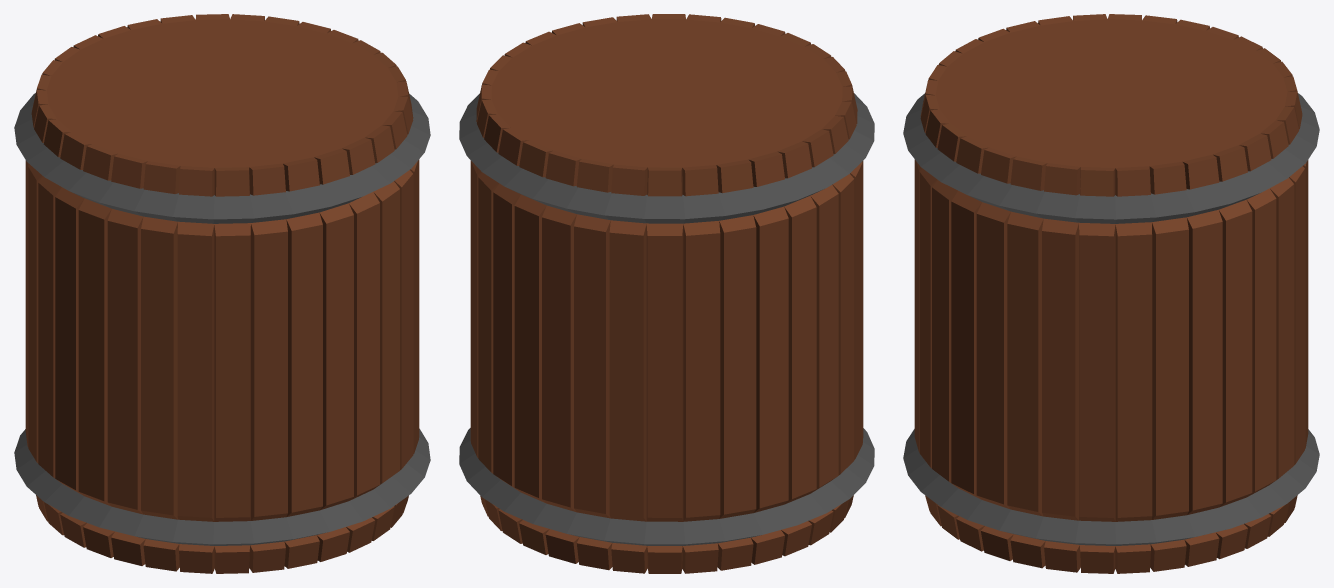
Rendered from Barriles.006.fbx.
3 renders of one model, left to right at view 1: azimuth 30°, elevation 25°; view 2: azimuth 150°, elevation 25°; view 3: azimuth 270°, elevation 25°, orthographic.
Parts seen in each view (by area): view 1: Barriles.006; view 2: Barriles.006; view 3: Barriles.006.
Boxes of the visible parts, x1=… form: Barriles.006: x1=14, y1=14, x2=430, y2=573; Barriles.006: x1=459, y1=14, x2=874, y2=573; Barriles.006: x1=903, y1=14, x2=1319, y2=573.
Size of the model in its own units: 82.79 by 88.34 by 82.79.
